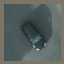car: (21, 21, 48, 52)
